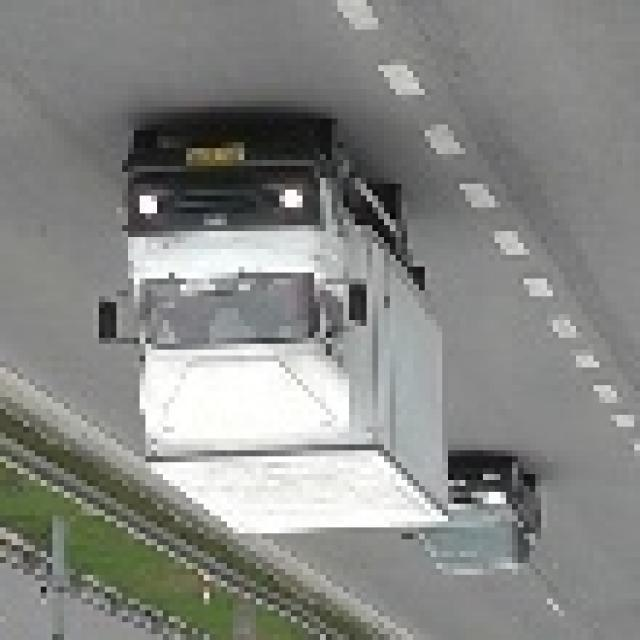truck: (87, 130, 448, 550)
